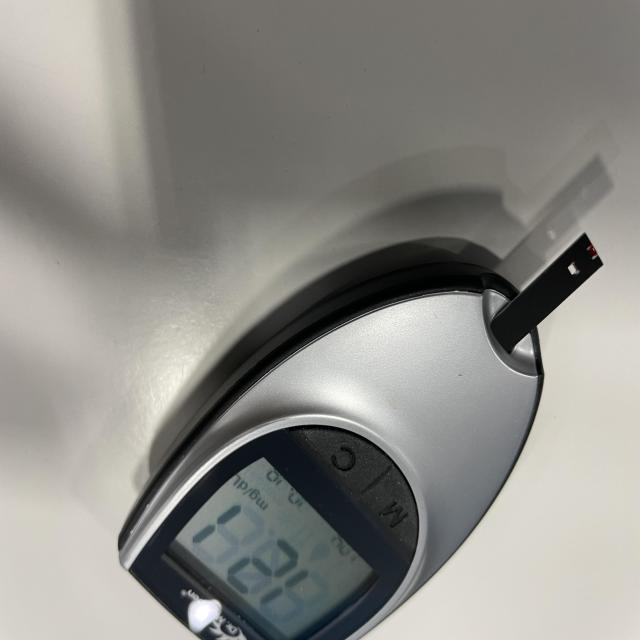gluco: (117, 148, 611, 640)
